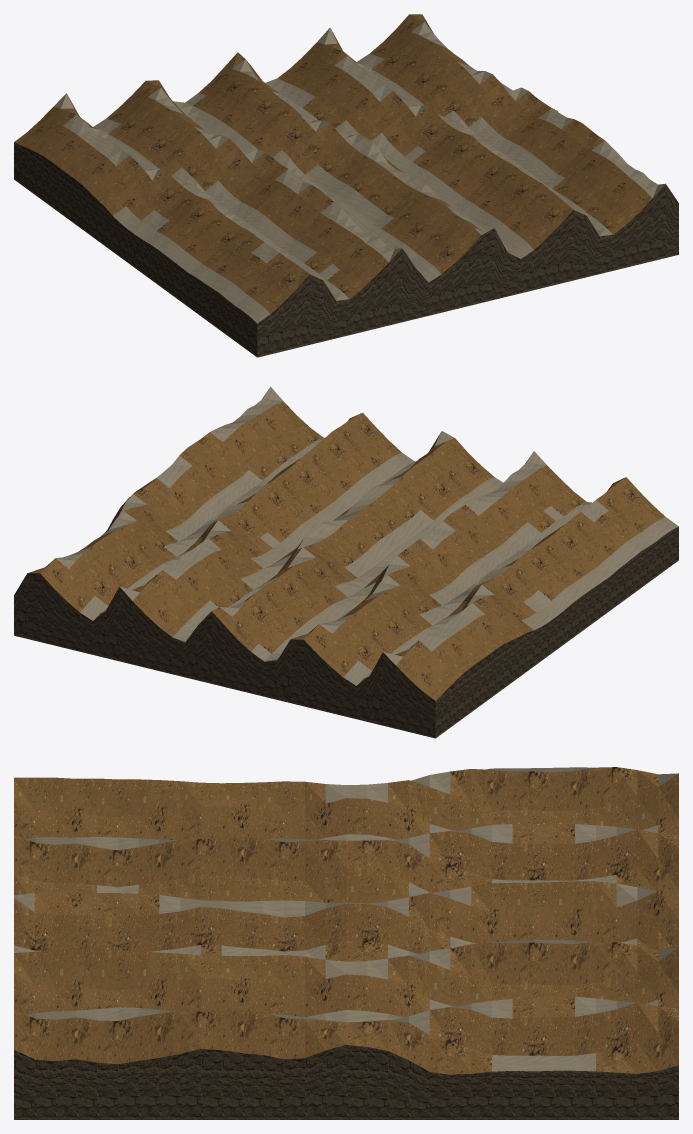
The model's file is dune_01.glb.
3 renders of one model, top to bottom at view 1: azimuth 30°, elevation 25°; view 2: azimuth 150°, elevation 25°; view 3: azimuth 270°, elevation 25°, orthographic. The views are drawn at different scales.
Parts seen in each view (by area): view 1: dune_01; view 2: dune_01; view 3: dune_01.
Boxes of the visible parts, x1=… form: dune_01: x1=14, y1=14, x2=678, y2=357; dune_01: x1=14, y1=386, x2=678, y2=738; dune_01: x1=14, y1=767, x2=678, y2=1119.
Bounding box in the file's own units: 16 × 2.72 × 16.
3 materials, 3 textured.
